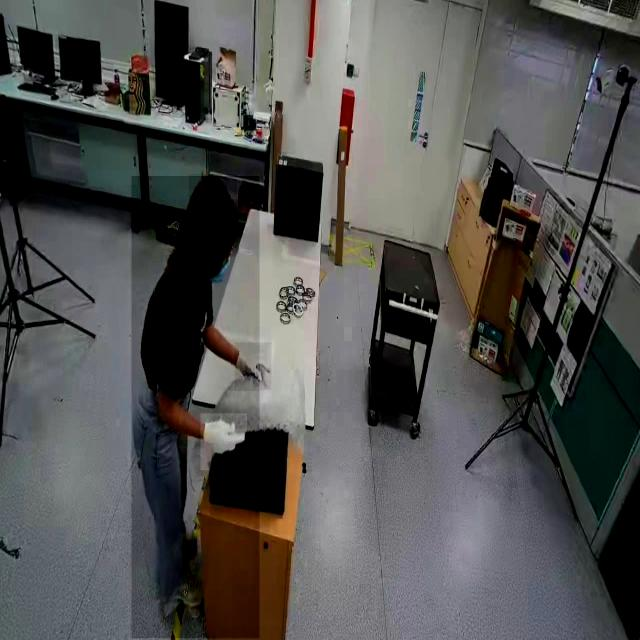hand_glove: (200, 413, 248, 471), (234, 342, 272, 391)
head_nohelmet: (189, 174, 237, 226)
person: (132, 176, 260, 639)
